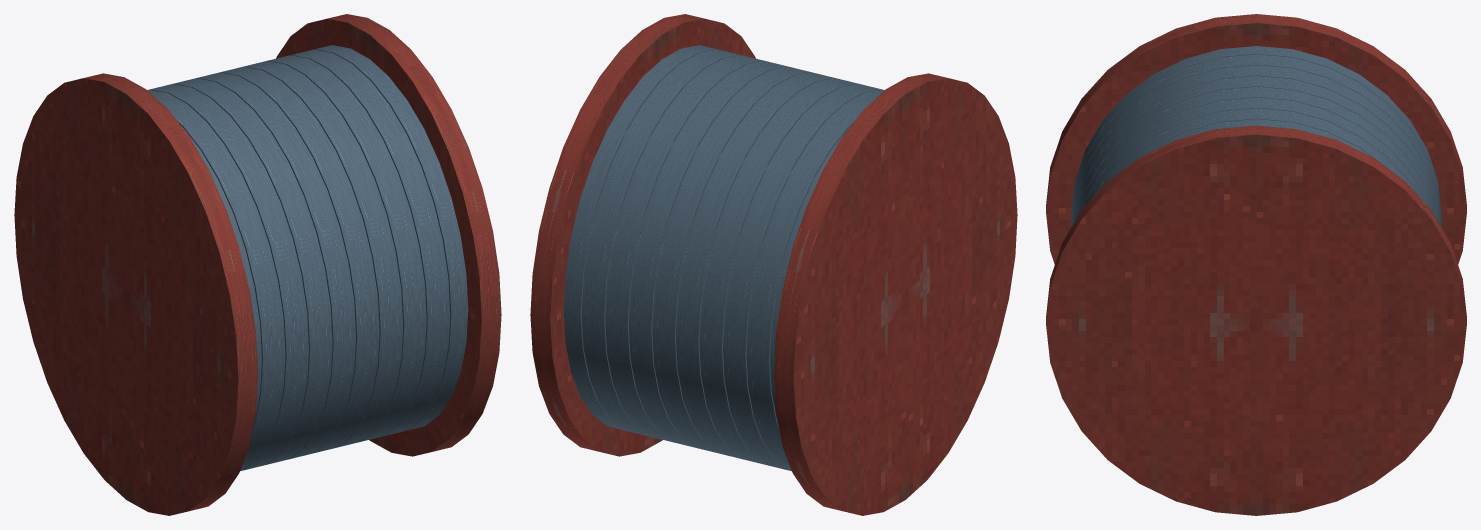
The model's file is air-reel.glb.
3 views of the same model, side by side, from view 1: azimuth 30°, elevation 25°; view 2: azimuth 150°, elevation 25°; view 3: azimuth 270°, elevation 25° (orthographic). The views are drawn at different scales.
Visible parts, largest first — view 1: cheek (×2), wrap (×10); view 2: cheek (×2), wrap (×10); view 3: cheek (×2), wrap (×8).
Boxes of the visible parts, bbox=[...] form: cheek (×2): bbox=[14, 14, 501, 515]; wrap (×10): bbox=[147, 45, 468, 471]; cheek (×2): bbox=[530, 14, 1017, 515]; wrap (×10): bbox=[563, 45, 884, 471]; cheek (×2): bbox=[1046, 14, 1466, 515]; wrap (×8): bbox=[1071, 46, 1441, 226].
Bounding box in the file's own units: 0.2985 × 0.44 × 0.44.
2 materials, 2 textured.
